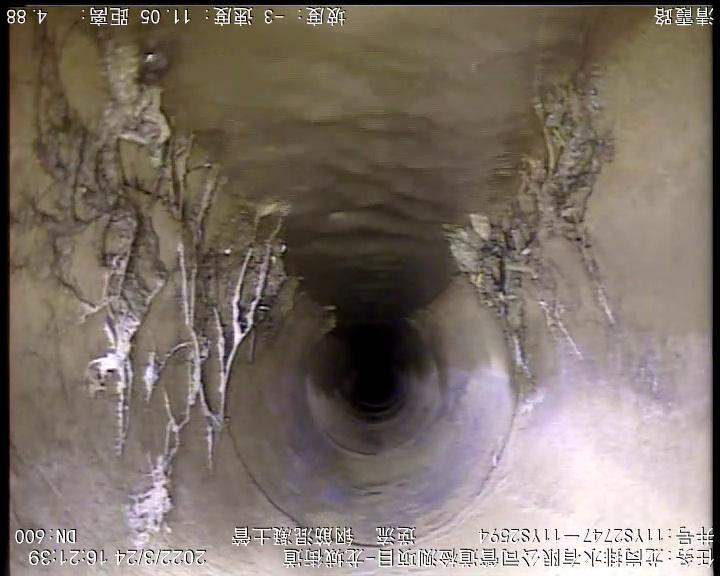SG: (30, 25, 297, 550), (447, 73, 615, 379)
